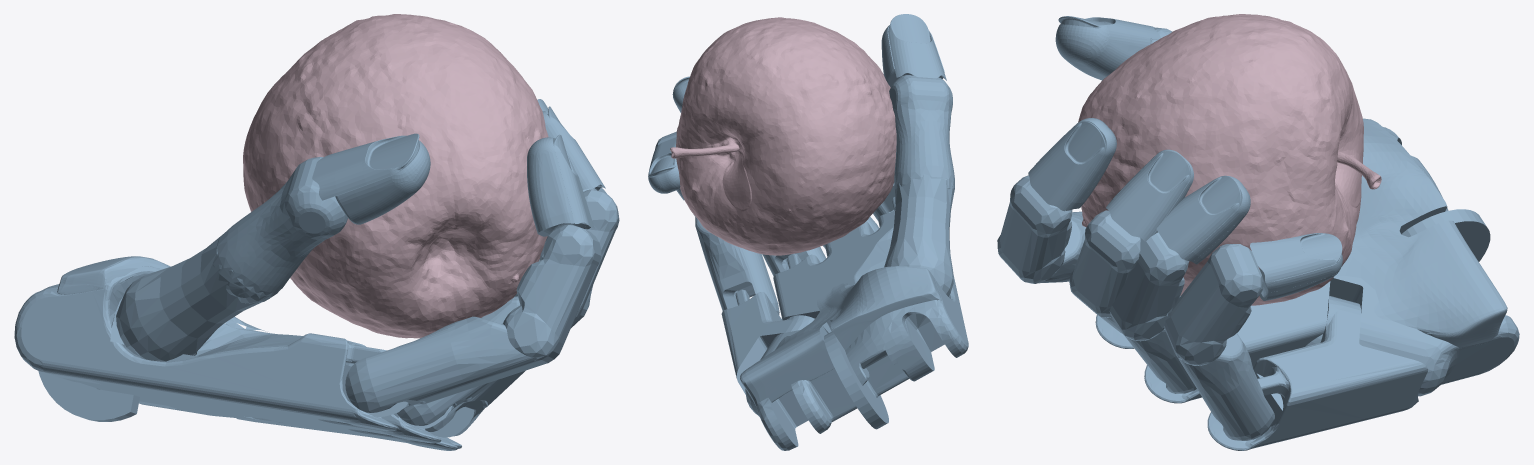
3 views of the same model, side by side, from view 1: azimuth 30°, elevation 25°; view 2: azimuth 150°, elevation 25°; view 3: azimuth 270°, elevation 25° (orthographic). The views are drawn at different scales.
Parts seen in each view (by area): view 1: world, obj_mesh_grasp_15.obj; view 2: world, obj_mesh_grasp_15.obj; view 3: world, obj_mesh_grasp_15.obj.
Part boxes in pixels (box(x1,y1,x2,y2)): world: box(14, 99, 619, 450); obj_mesh_grasp_15.obj: box(243, 14, 548, 338); world: box(648, 14, 968, 450); obj_mesh_grasp_15.obj: box(670, 17, 896, 255); world: box(997, 16, 1519, 450); obj_mesh_grasp_15.obj: box(1078, 14, 1381, 305).
Bounding box in the file's own units: 0.1515 × 0.1314 × 0.151.
